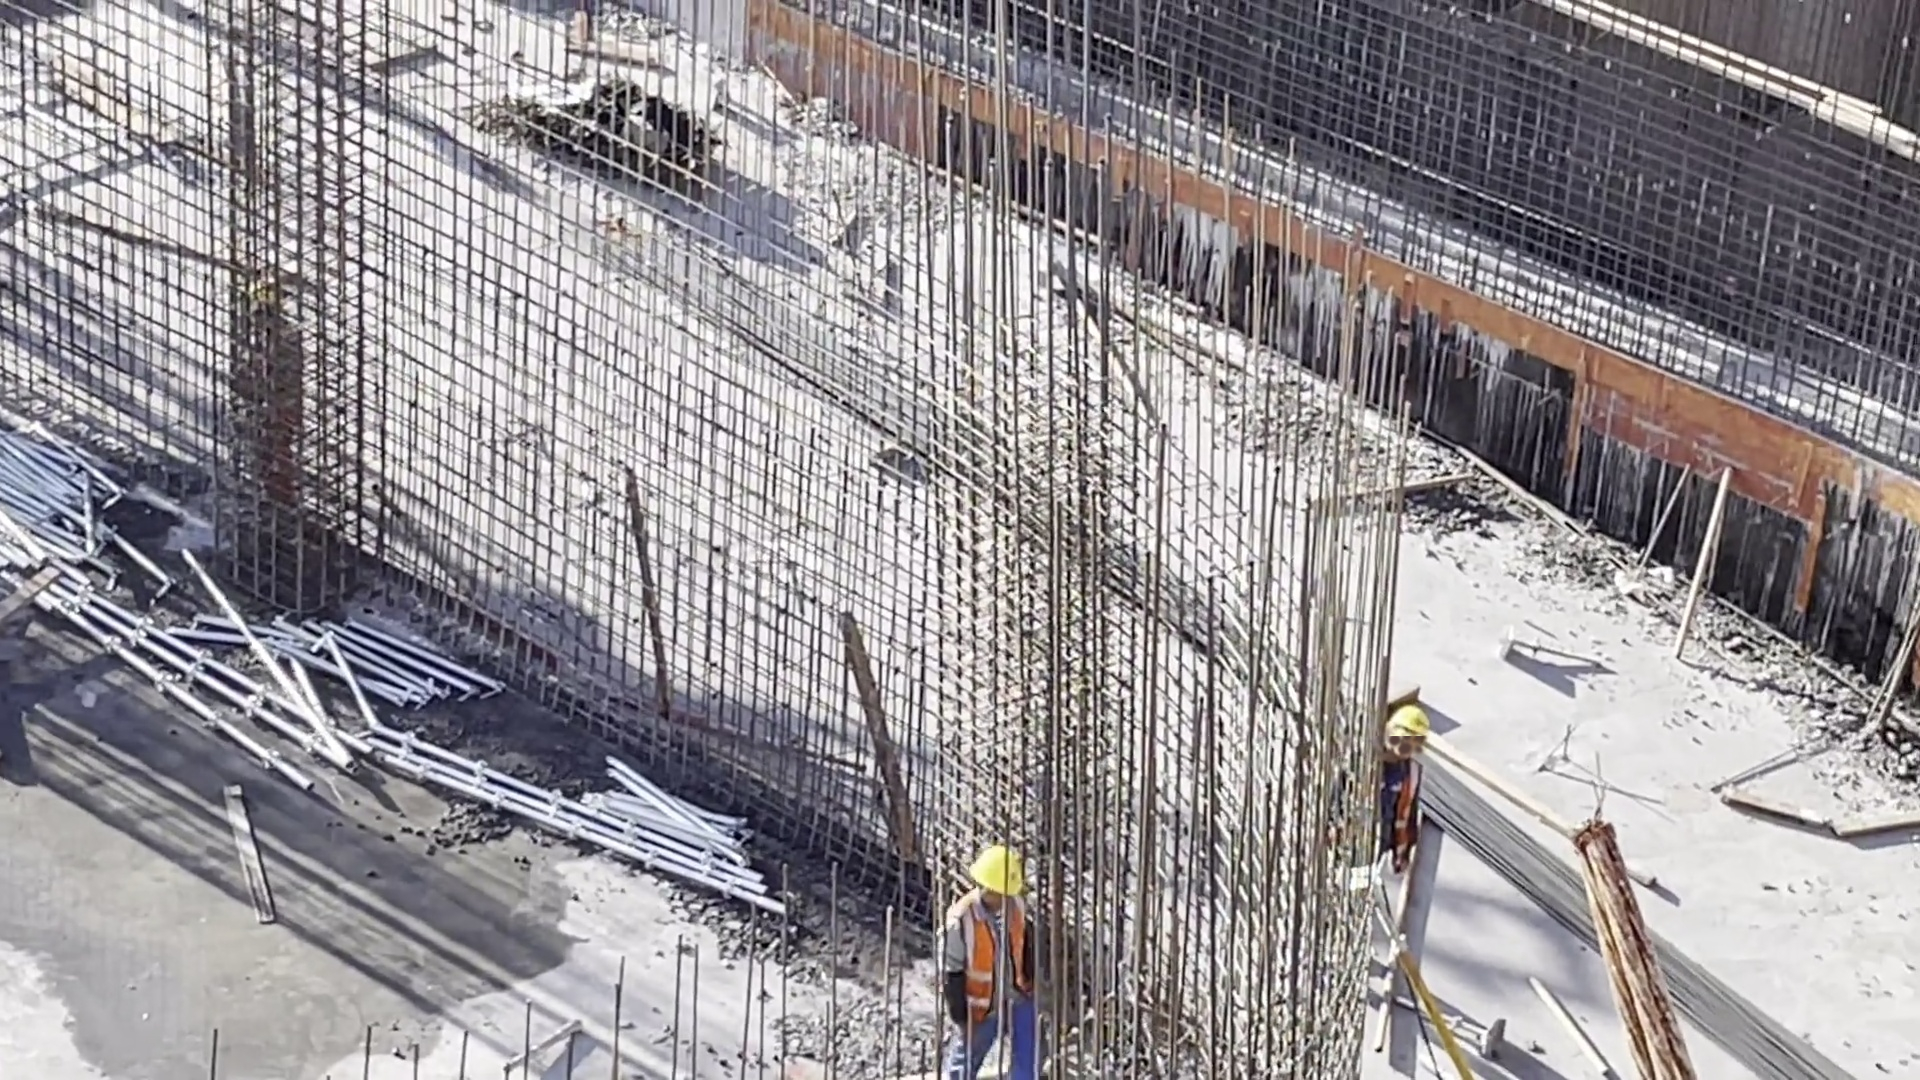helmet: (960, 842, 1036, 895), (1385, 709, 1434, 745)
person: (945, 843, 1078, 1080), (236, 271, 341, 538), (1380, 708, 1447, 887)
rebar: (1450, 783, 1798, 1080)
scaffold: (244, 619, 490, 773), (600, 802, 782, 914), (1, 438, 130, 570)
vest: (951, 898, 1041, 1015), (1374, 760, 1437, 864)
